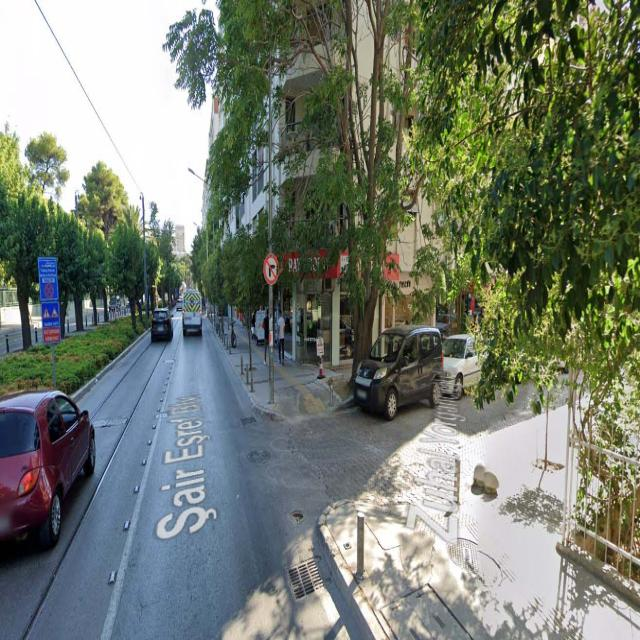sagadonulmez: (264, 253, 277, 283)
